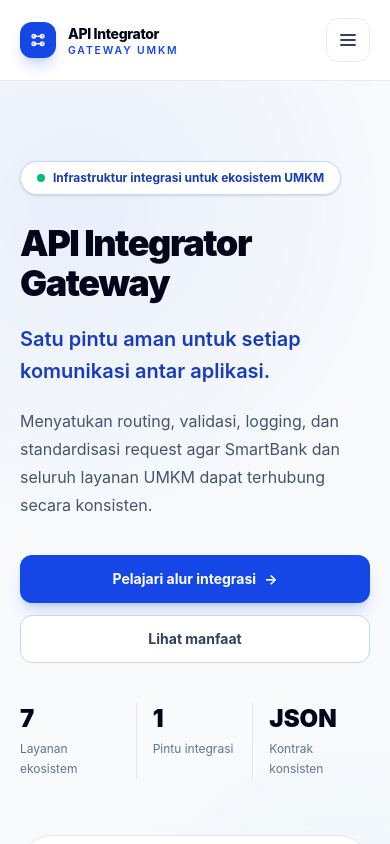
Test: Sprint 4 authentication frontend › preserves accessible landing navigation and mobile controls
The width and height of the screenshot is (390, 844).
Expected: the heading "API Integrator Gateway" is shown, [20,221,251,305]
What coordinates should you click on to do the following:
click the button named "Buka menu navigasi"
I would click on:
 (348, 40)
Its box is [326,18,370,62].
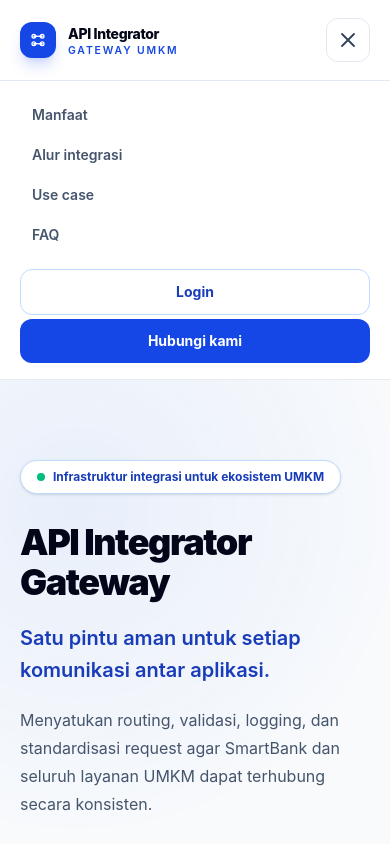
Now the navigation bar named "Navigasi mobile" is shown, box [0,80,389,379]
